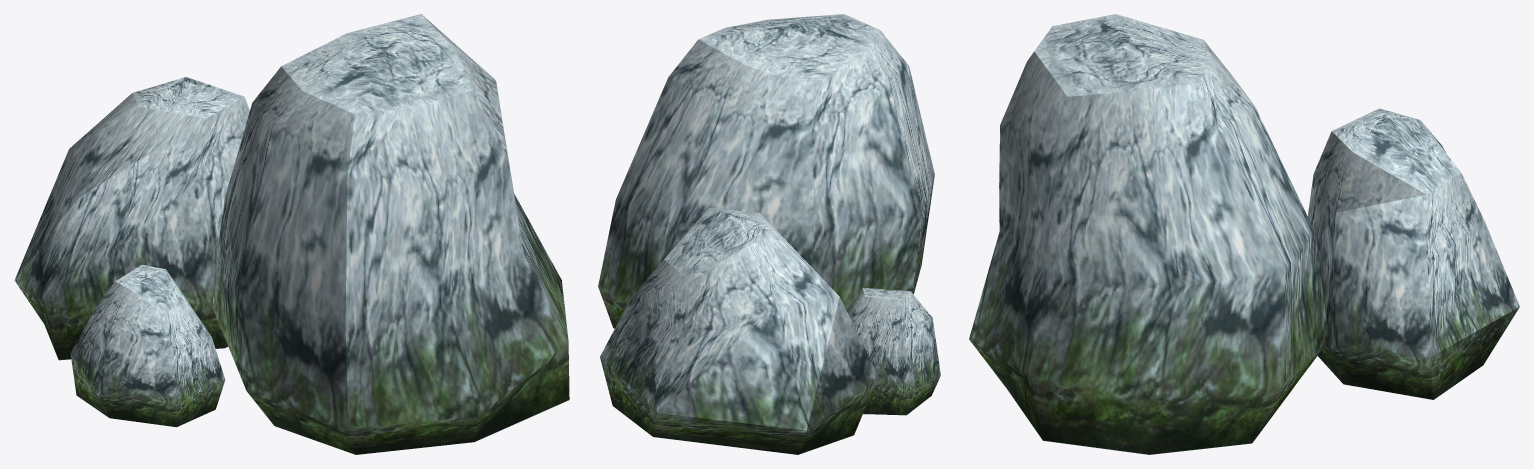
The model's file is STONE2.glb.
3 views of the same model, side by side, from view 1: azimuth 30°, elevation 25°; view 2: azimuth 150°, elevation 25°; view 3: azimuth 270°, elevation 25° (orthographic). The views are drawn at different scales.
Parts seen in each view (by area): view 1: STONE2-col; view 2: STONE2-col; view 3: STONE2-col.
Part boxes in pixels (x1,y1,x2,y2): STONE2-col: (14, 14, 569, 454); STONE2-col: (598, 14, 940, 454); STONE2-col: (969, 14, 1519, 454).
Bounding box in the file's own units: 2.82 × 2.24 × 3.34.
Materials: 2 (2 with a texture image).
